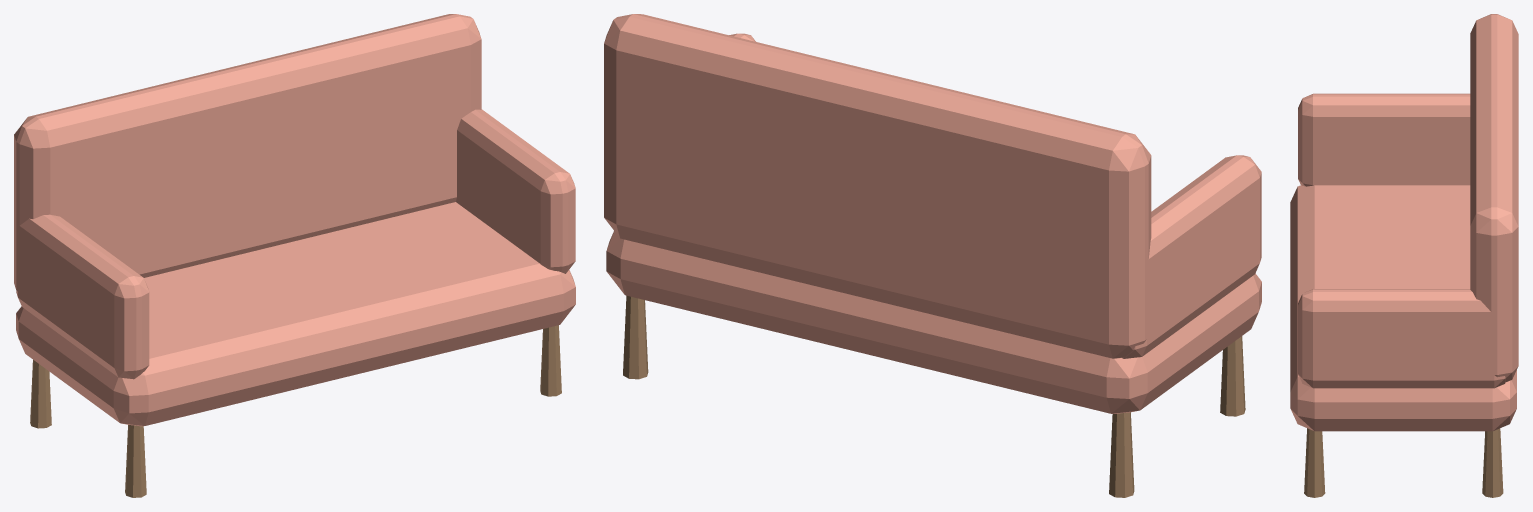
File: cozy-home-interiors-sofa-two-seat-cfcf21fd.glb
The picture shows the model from 3 angles, left to right: view 1: azimuth 30°, elevation 25°; view 2: azimuth 150°, elevation 25°; view 3: azimuth 270°, elevation 25°; orthographic projection. The views are drawn at different scales.
Visible parts, largest first — view 1: sofa-two-seat; view 2: sofa-two-seat; view 3: sofa-two-seat.
Part boxes in pixels (<box>): sofa-two-seat: <box>14,14,575,497</box>; sofa-two-seat: <box>604,14,1261,497</box>; sofa-two-seat: <box>1290,14,1518,497</box>.
Size of the model in its own units: 1.65 by 1.05 by 0.755.
